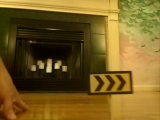right: (87, 71, 132, 94)
